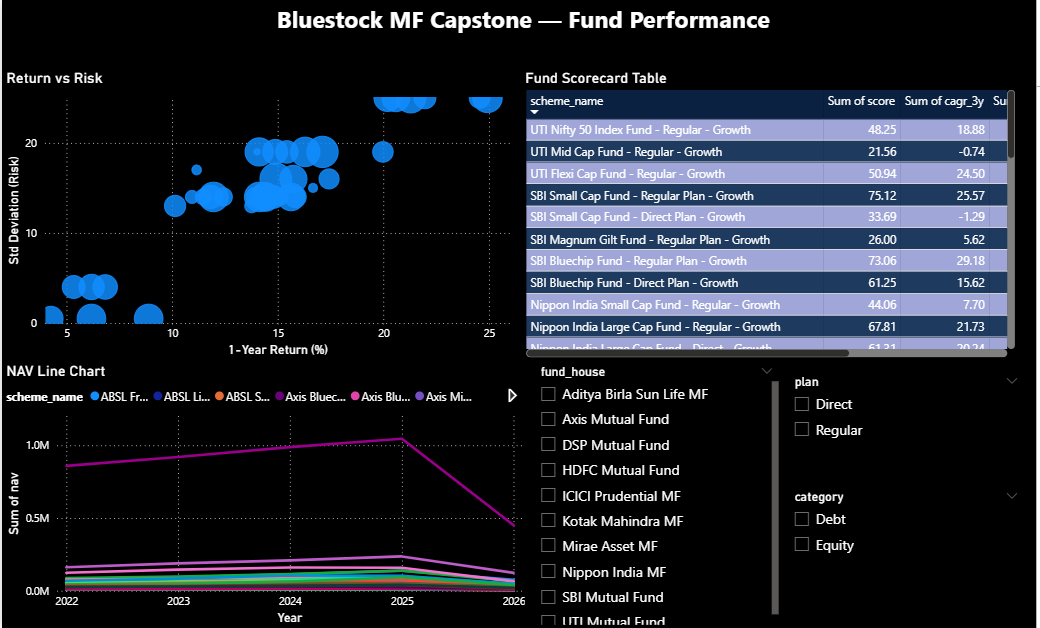

The page's visual inventory and layout, read from the dashboard file:
{"tool":"powerbi","page":{"name":"Fund Performance","canvas":[1280,720],"ordinal":1},"visuals":[{"type":"scatterChart","title":"Return vs Risk","fields":{"X":["Sum(performance_clean.return_1yr_pct)"],"Y":["Sum(performance_clean.std_dev_ann_pct)"],"Size":["Sum(performance_clean.aum_crore)"],"Category":["01_fund_master.scheme_name"]},"box":[0,80,592.9,334.3],"z":0},{"type":"tableEx","title":"Fund Scorecard Table","fields":{"Values":["01_fund_master.scheme_name","Sum(fund_scorecard.score)","Sum(fund_scorecard.cagr_3y)","Sum(performance_clean.sharpe_ratio)","Sum(performance_clean.expense_ratio_pct)"]},"box":[592.9,80,570,334.3],"z":1000},{"type":"slicer","fields":{"Values":["01_fund_master.fund_house"]},"box":[602.9,412.9,290,307.1],"z":2000},{"type":"slicer","fields":{"Values":["01_fund_master.category"]},"box":[892.9,555.7,280,150],"z":3000},{"type":"slicer","fields":{"Values":["01_fund_master.plan"]},"box":[892.9,424.3,280,118.6],"z":4000},{"type":"lineChart","title":"NAV Line Chart","fields":{"Category":["nav_clean.date.Variation.Date Hierarchy.Year","nav_clean.date.Variation.Date Hierarchy.Quarter","nav_clean.date.Variation.Date Hierarchy.Month","nav_clean.date.Variation.Date Hierarchy.Day"],"Y":["Sum(nav_clean.nav)"],"Series":["01_fund_master.scheme_name"]},"box":[0,414.3,602.9,305.7],"z":5000},{"type":"textbox","box":[0,0,1184.3,50],"z":6000}]}

Visuals, with their boxes on the page's 1280x720 design canvas (x1, y1, x2, y2). These are canvas units, not pixel positions in the 1040x628 screenshot, which may show the page scaled, cropped or inside an application window:
"Return vs Risk" scatterChart: [left=0, top=80, right=593, bottom=414]
"Fund Scorecard Table" tableEx: [left=593, top=80, right=1163, bottom=414]
slicer - 01_fund_master.fund_house: [left=603, top=413, right=893, bottom=720]
slicer - 01_fund_master.category: [left=893, top=556, right=1173, bottom=706]
slicer - 01_fund_master.plan: [left=893, top=424, right=1173, bottom=543]
"NAV Line Chart" lineChart: [left=0, top=414, right=603, bottom=720]
textbox: [left=0, top=0, right=1184, bottom=50]
